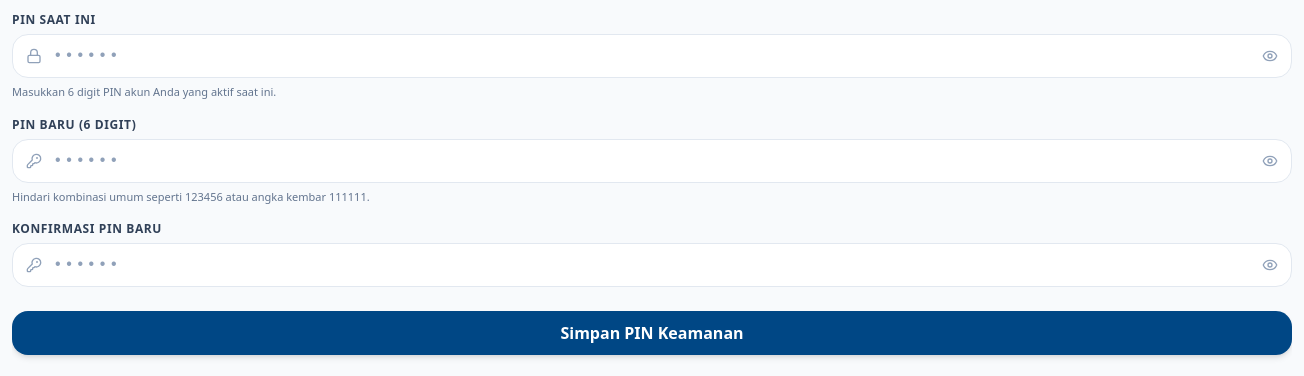
Test: Change PIN Feature (Task P1.4) Tests › ChangePinForm Component › rejects when new PIN equals current PIN
Type "123456" into the password field labelled "PIN Saat Ini" at coordinates (652, 56), box x1=12 y1=34 x2=1292 y2=78
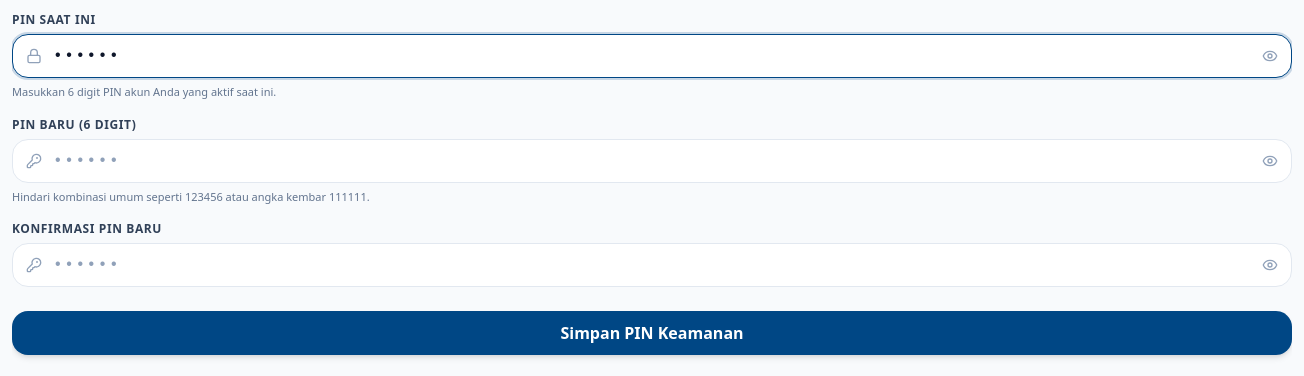
Type "123456" into the password field labelled "PIN Baru (6 Digit)" at coordinates (652, 160), box x1=12 y1=138 x2=1292 y2=182
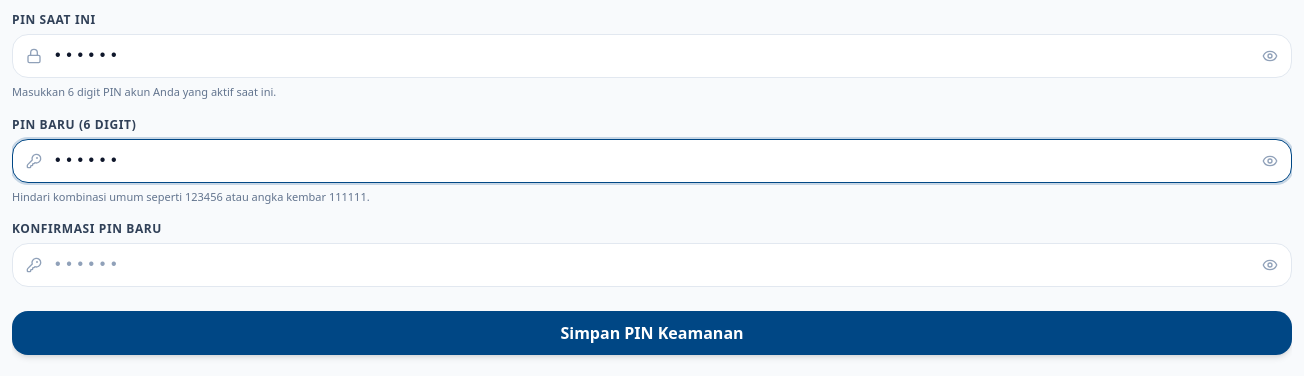
Type "123456" into the password field labelled "Konfirmasi PIN Baru" at coordinates (652, 265), box x1=12 y1=243 x2=1292 y2=287
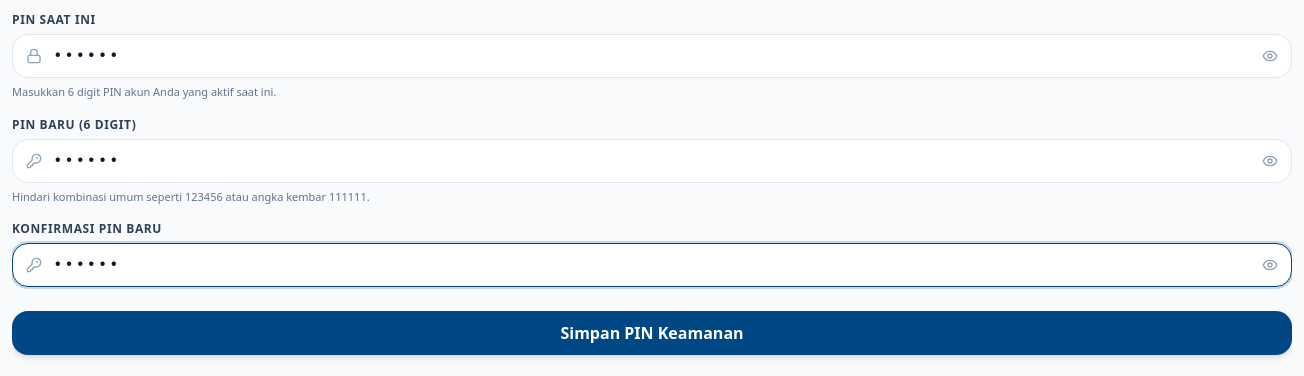
Click the button "Simpan PIN Keamanan" at coordinates (652, 333), box x1=12 y1=311 x2=1292 y2=355
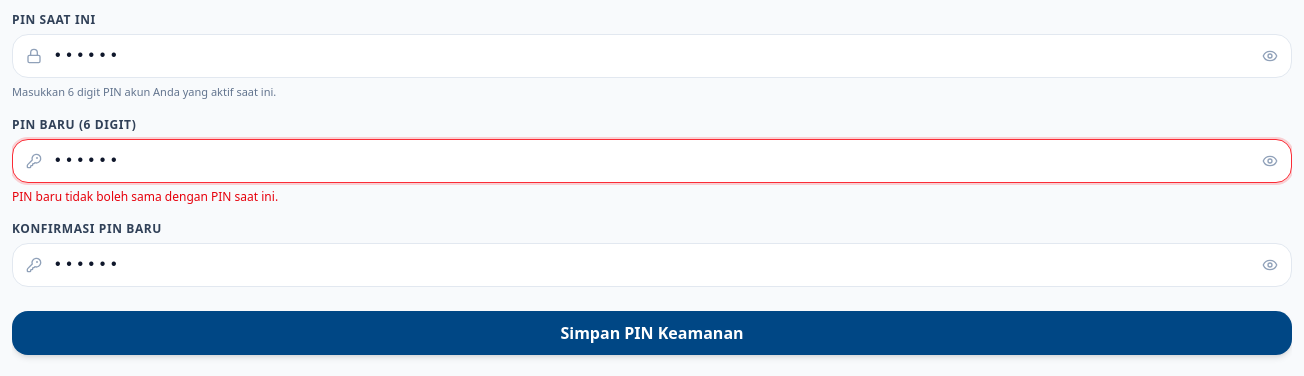
Expected: the text "PIN baru tidak boleh sama dengan PIN saat ini." is shown, x1=12 y1=188 x2=278 y2=204
